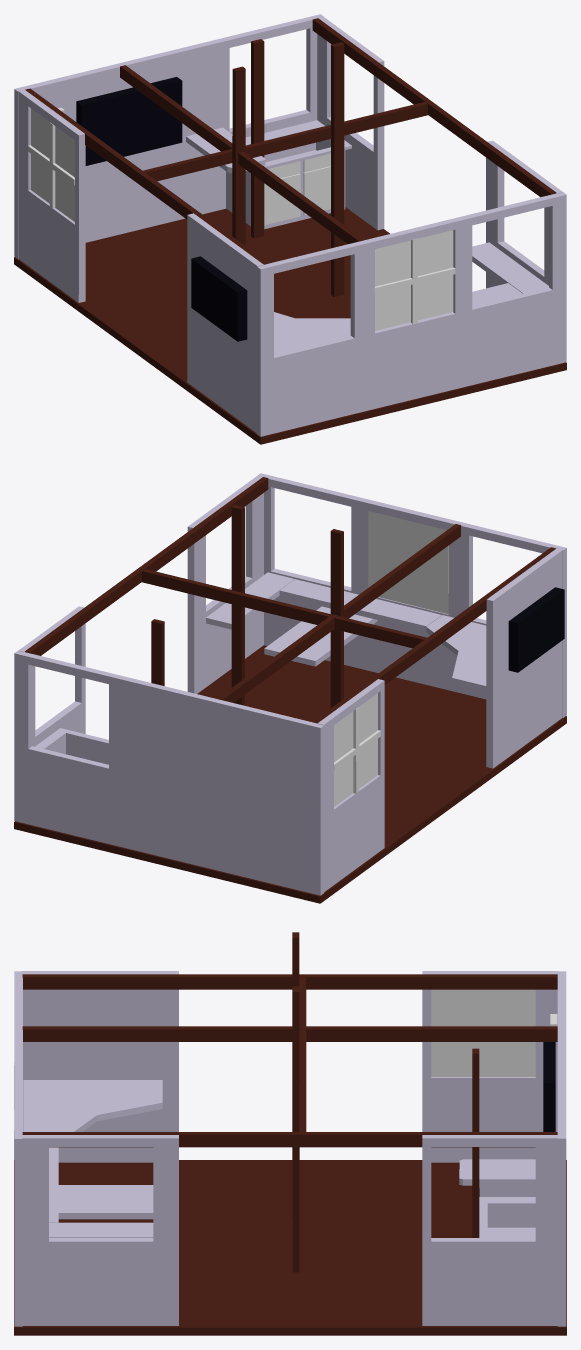
Rendered from cesHouse.fbx.
The picture shows the model from 3 angles, top to bottom: view 1: azimuth 30°, elevation 25°; view 2: azimuth 150°, elevation 25°; view 3: azimuth 270°, elevation 25°; orthographic projection. The views are drawn at different scales.
Visible parts, largest first — view 1: S_Wall, Floor, N_Wall, W_Wall, E_Wall, TV, Window, CrossBeam, CrossBeam.002, centerBeam, TV.001, TallBeam.001 (+15 smaller); view 2: N_Wall, Floor, W_Wall, S_Wall, E_Wall, Window, centerBeam, CrossBeam, CrossBeam.002, TV.001, Window2, CrossBeam.001 (+10 smaller); view 3: Floor, E_Wall, W_Wall, CrossBeam.002, CrossBeam.001, Window2, CounterJointed, CrossBeam, N_Wall, CounterExtended, S_Wall, CounterSink (+9 smaller).
Boxes of the visible parts, box(x1,y1,x2,y2) form: S_Wall: box(256, 192, 566, 436); Floor: box(14, 207, 566, 444); N_Wall: box(14, 14, 323, 259); W_Wall: box(18, 89, 263, 432); E_Wall: box(317, 16, 562, 288); TV: box(76, 77, 182, 165); Window: box(375, 230, 453, 330); CrossBeam: box(312, 18, 556, 197); CrossBeam.002: box(120, 65, 363, 243); centerBeam: box(143, 102, 427, 181); TV.001: box(191, 256, 247, 341); TallBeam.001: box(331, 42, 344, 296); N_Wall: box(14, 651, 324, 895); Floor: box(14, 645, 566, 903); W_Wall: box(317, 548, 562, 891); S_Wall: box(258, 473, 566, 717); E_Wall: box(18, 475, 263, 746); Window: box(368, 511, 448, 614); centerBeam: box(142, 569, 426, 648); CrossBeam: box(25, 477, 268, 655); CrossBeam.002: box(217, 524, 461, 702); TV.001: box(508, 587, 564, 672); Window2: box(334, 693, 377, 806); CrossBeam.001: box(313, 547, 555, 723); Floor: box(14, 1160, 566, 1335); E_Wall: box(21, 1134, 558, 1325); W_Wall: box(21, 971, 558, 1162); CrossBeam.002: box(22, 1026, 557, 1041); CrossBeam.001: box(22, 974, 557, 989); Window2: box(431, 989, 535, 1076); CounterJointed: box(23, 1080, 162, 1147); CrossBeam: box(22, 1132, 557, 1147); N_Wall: box(557, 971, 566, 1326); CounterExtended: box(58, 1185, 153, 1219); S_Wall: box(14, 971, 22, 1326); CounterSink: box(459, 1159, 535, 1196).
Size of the model in its own units: 2357 by 1840 by 3181.
